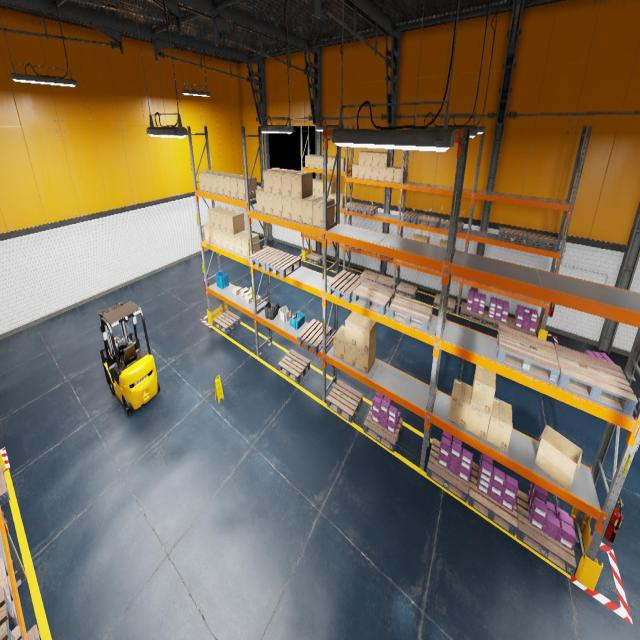box: (535, 425, 582, 491), (486, 397, 512, 452), (470, 365, 496, 415), (466, 388, 490, 440), (448, 378, 472, 429), (356, 317, 377, 353), (344, 311, 364, 347), (356, 341, 376, 374), (302, 195, 323, 225), (314, 198, 334, 228), (292, 171, 312, 199), (281, 170, 301, 197), (272, 169, 291, 195), (241, 232, 260, 258), (237, 176, 257, 200), (263, 168, 281, 193), (333, 325, 345, 361), (226, 211, 244, 234), (223, 174, 241, 196), (220, 209, 237, 232), (213, 207, 230, 230), (198, 170, 216, 191), (217, 173, 234, 195), (210, 172, 227, 193), (208, 206, 224, 228), (234, 230, 248, 255), (204, 171, 220, 192), (344, 342, 356, 368), (230, 175, 243, 198), (282, 195, 292, 220), (292, 198, 302, 222), (273, 194, 282, 217), (264, 192, 273, 215), (256, 188, 264, 213), (393, 167, 405, 183), (379, 152, 391, 167), (386, 166, 397, 182), (221, 230, 229, 250), (227, 233, 235, 252), (365, 151, 375, 166), (203, 222, 210, 242), (372, 152, 382, 166), (359, 151, 369, 165), (320, 180, 330, 193), (215, 228, 222, 246), (331, 192, 340, 206), (320, 156, 330, 168), (210, 227, 217, 244), (332, 157, 341, 170), (315, 179, 323, 193), (310, 154, 318, 168), (378, 167, 386, 181), (305, 155, 314, 167), (328, 181, 336, 194), (328, 156, 336, 169), (364, 166, 372, 179), (339, 194, 346, 208), (341, 157, 348, 171), (315, 156, 323, 168), (372, 167, 379, 180), (352, 163, 358, 178), (244, 287, 252, 298), (313, 178, 319, 192), (358, 166, 365, 178), (252, 295, 261, 304), (240, 287, 249, 296), (419, 235, 429, 243), (411, 233, 422, 240), (233, 286, 241, 295), (245, 294, 252, 304), (439, 239, 447, 247), (315, 192, 320, 196), (320, 193, 323, 196), (328, 194, 330, 198), (312, 192, 314, 195)
forklift: (98, 302, 160, 414)
pallets: (554, 344, 638, 415), (516, 489, 576, 576), (467, 462, 518, 536), (497, 325, 560, 384), (426, 438, 470, 502), (363, 404, 403, 452), (389, 294, 432, 332), (352, 279, 395, 315), (327, 380, 362, 422), (0, 558, 19, 631), (326, 270, 365, 303), (297, 319, 332, 354), (278, 349, 310, 383), (266, 252, 301, 278), (0, 586, 15, 639), (249, 247, 283, 270), (213, 310, 240, 334), (527, 232, 559, 250), (509, 317, 536, 337), (460, 302, 484, 324), (483, 310, 509, 330), (498, 227, 528, 244), (434, 294, 456, 314), (0, 464, 10, 507), (396, 282, 417, 300), (417, 214, 441, 227), (440, 220, 464, 232), (376, 274, 396, 288), (401, 211, 422, 224), (360, 270, 380, 282), (358, 204, 378, 216), (27, 624, 41, 640), (346, 202, 364, 213), (11, 626, 25, 640), (306, 252, 322, 264), (466, 279, 490, 286), (378, 254, 393, 260), (346, 245, 360, 250), (361, 250, 377, 254), (305, 234, 317, 237)
